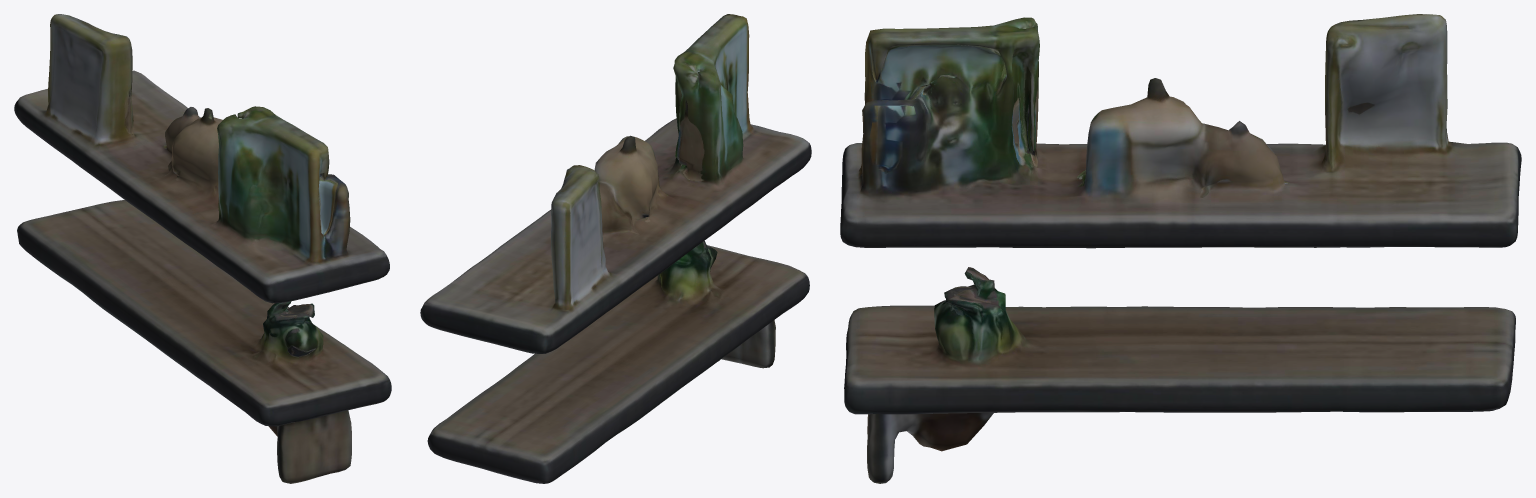
Rendered from wallshelves.fbx.
The picture shows the model from 3 angles, left to right: view 1: azimuth 30°, elevation 25°; view 2: azimuth 150°, elevation 25°; view 3: azimuth 270°, elevation 25°; orthographic projection. The views are drawn at different scales.
Parts seen in each view (by area): view 1: mesh; view 2: mesh; view 3: mesh.
Boxes of the visible parts, x1,y1,x2,y2 form: mesh: [14, 14, 391, 483]; mesh: [420, 14, 811, 483]; mesh: [840, 14, 1521, 483].
Size of the model in its own units: 28.56 by 70.57 by 99.82.
